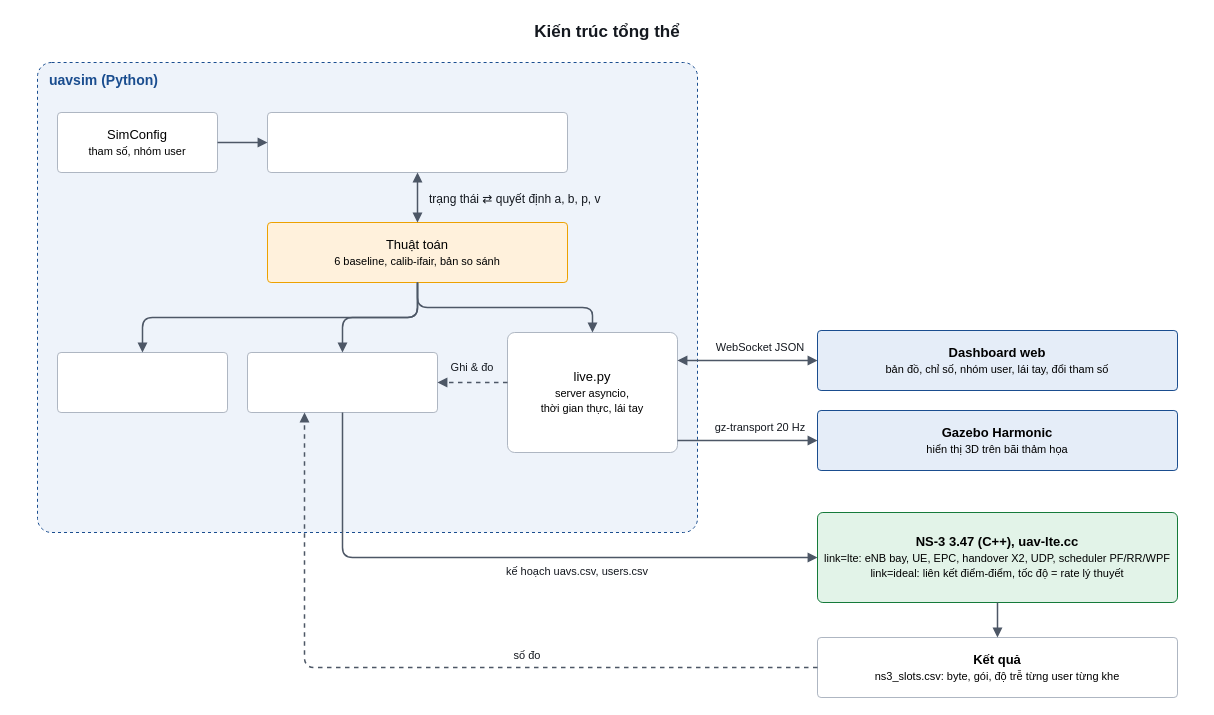
Some shapes in this 1214 by 715 pixel diagram are drawn without their labels. The shapes that lost their labels are listed below. From the top down, each one's box as (x1, y1, x2, y2) in pixels, then its label:
(266, 112, 568, 172): Network kênh A2G, SINR, rate, hàng đợi, năng lượng
(56, 352, 228, 412): run.py so sánh, biểu đồ
(246, 352, 438, 412): ns3.py ghi kế hoạch, gọi NS-3, đọc số đo
